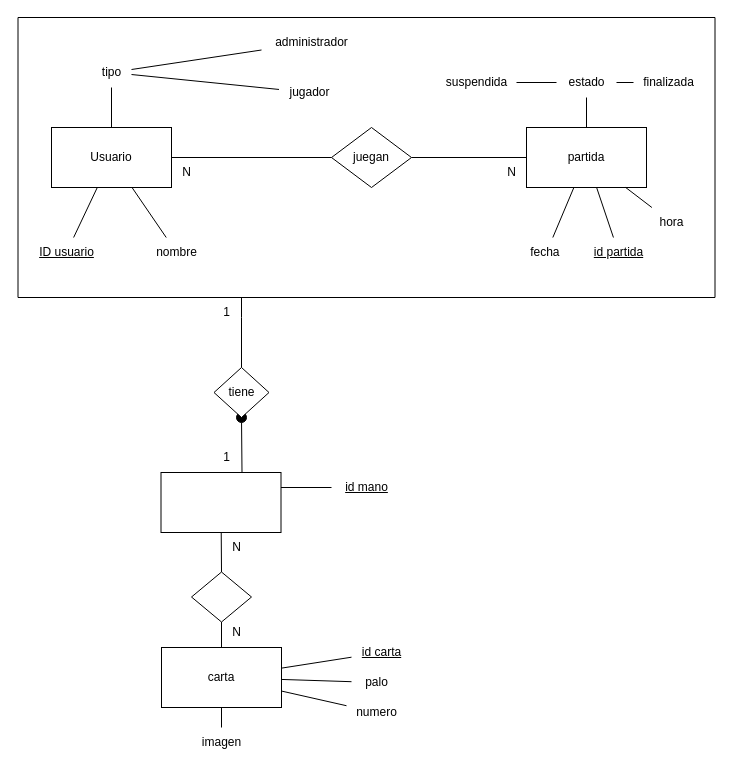
Image size: 732x775. Some labels were removed from this diagram. Here are the shapes that lost their labels. From the top down, the centre of each, then its label:
At pixel 220 502: "mano".
At pixel 221 596: "compone".
